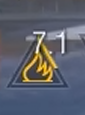1fire: (5, 55, 70, 91)
